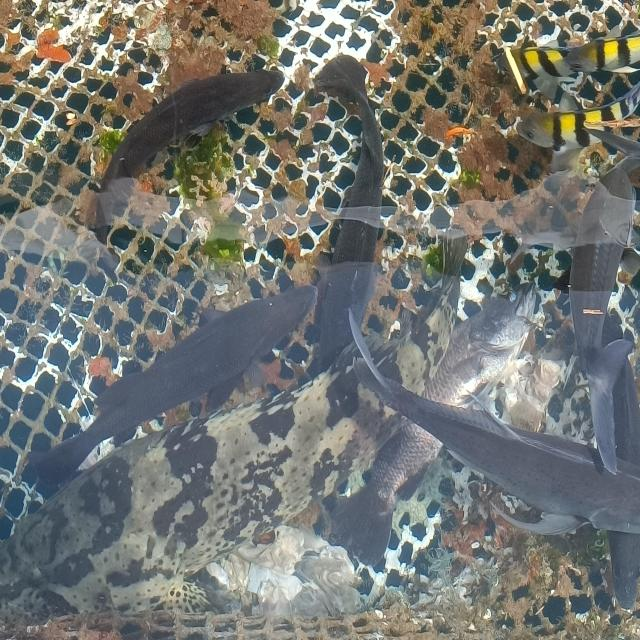ikan: (342, 304, 639, 610), (23, 282, 319, 496), (79, 66, 286, 240), (504, 19, 639, 109), (515, 84, 639, 154)
